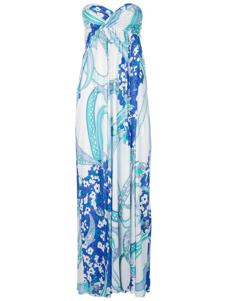C_dress: (68, 1, 165, 299)
